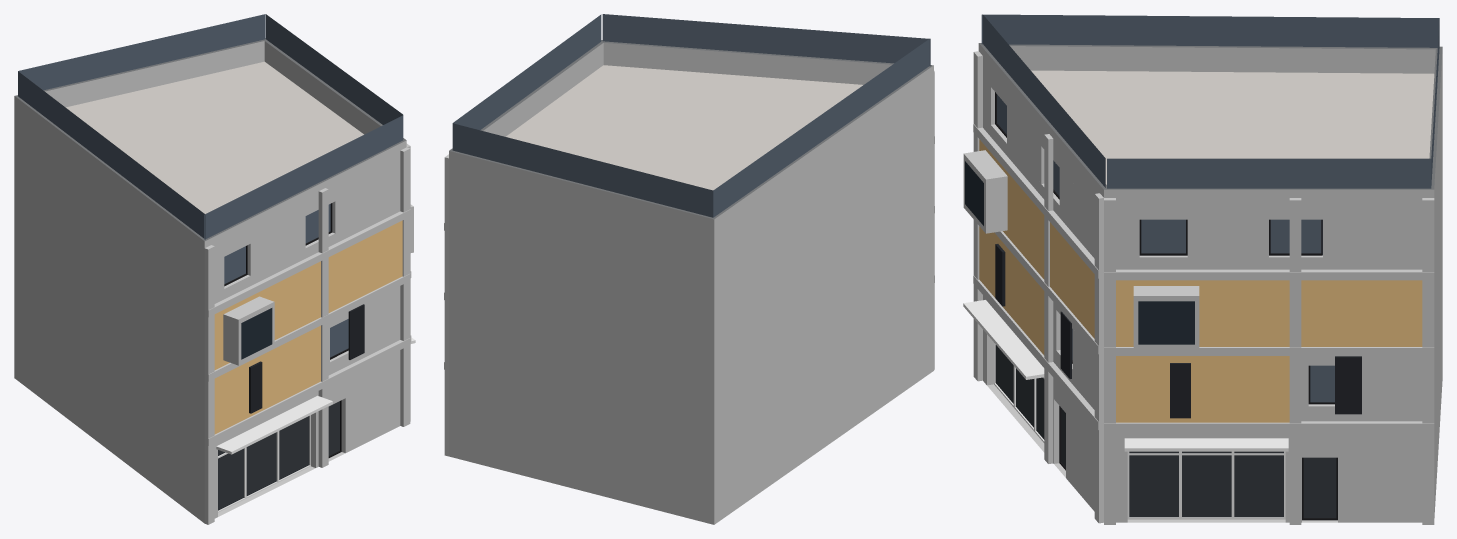
File: lamb529.glb
3 views of the same model, side by side, from view 1: azimuth 30°, elevation 25°; view 2: azimuth 150°, elevation 25°; view 3: azimuth 270°, elevation 25° (orthographic). The views are drawn at different scales.
Parts seen in each view (by area): view 1: lamb529; view 2: lamb529; view 3: lamb529.
Part boxes in pixels (x1,y1,x2,y2): lamb529: (14, 14, 415, 524); lamb529: (444, 14, 934, 524); lamb529: (963, 14, 1442, 524).
Bounding box in the file's own units: 12.54 × 13.4 × 16.05.
